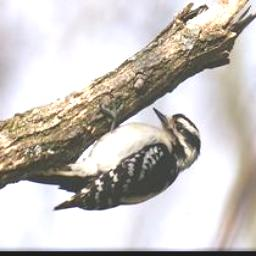Woodpecker: (21, 103, 212, 220)
